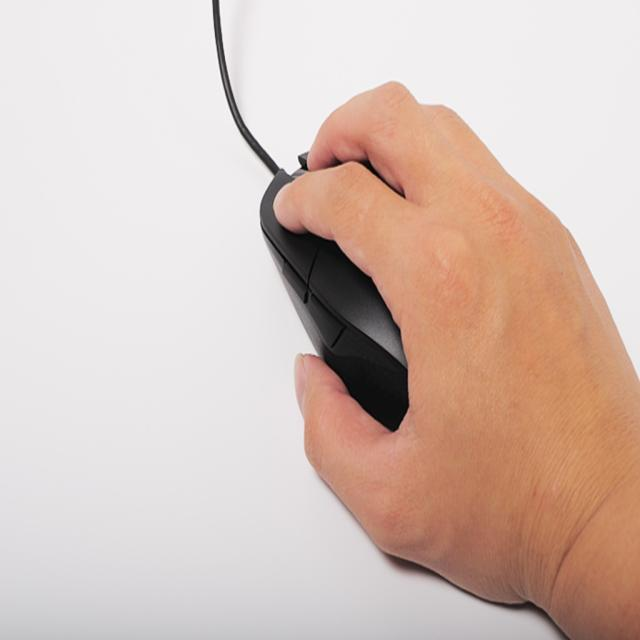Computer-mouse: (214, 0, 409, 428)
